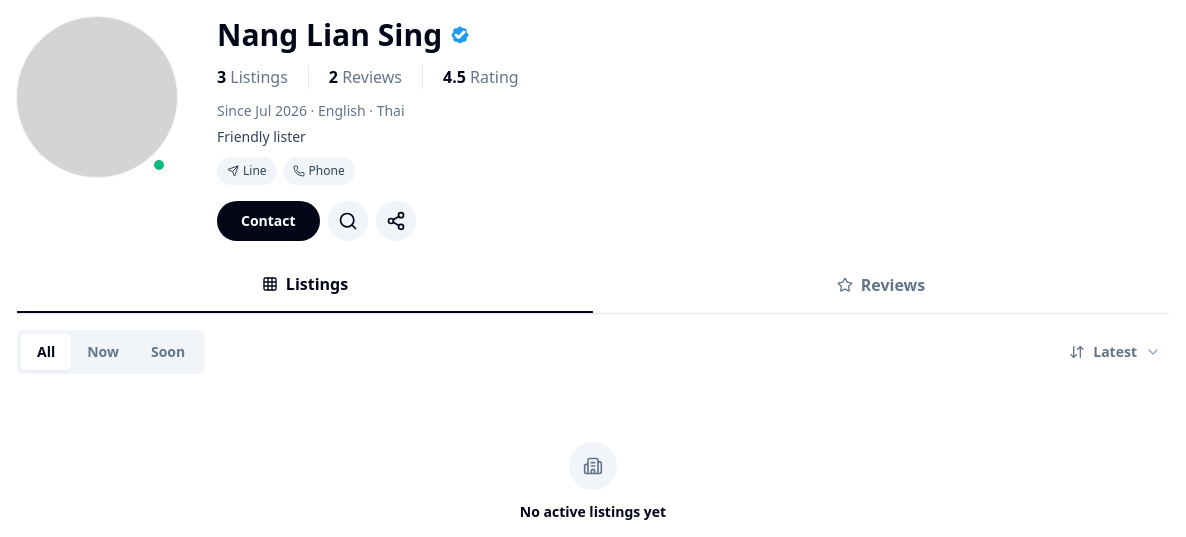
ListerProfilePage › switches listing filter tabs and refetches with the selected filter
Expected: the heading "Nang Lian Sing" is shown, 217,17 -> 442,53
Click the tab "Now" at (103, 352), box 71,334 -> 135,370
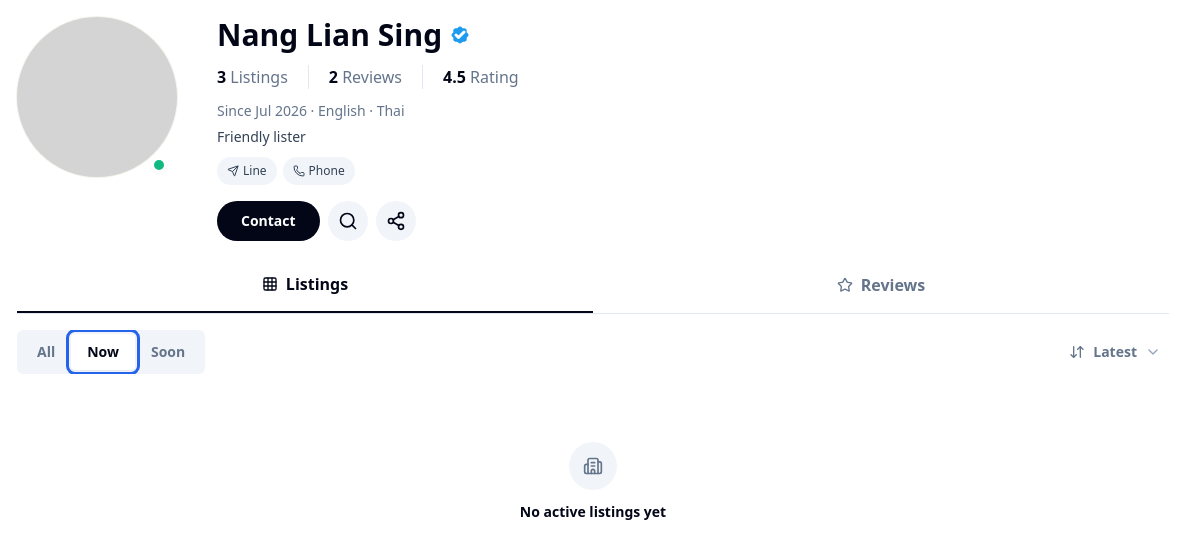
Click the tab "Soon" at (168, 352), box 135,334 -> 201,370
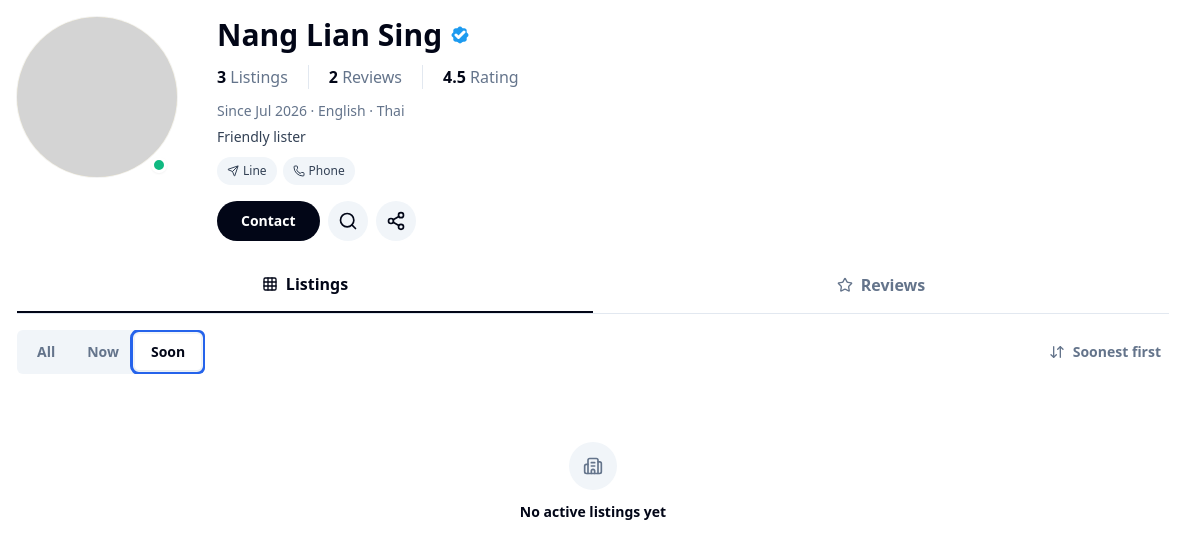
Now the text "Soonest first" is shown, box 1073,342 -> 1161,362
